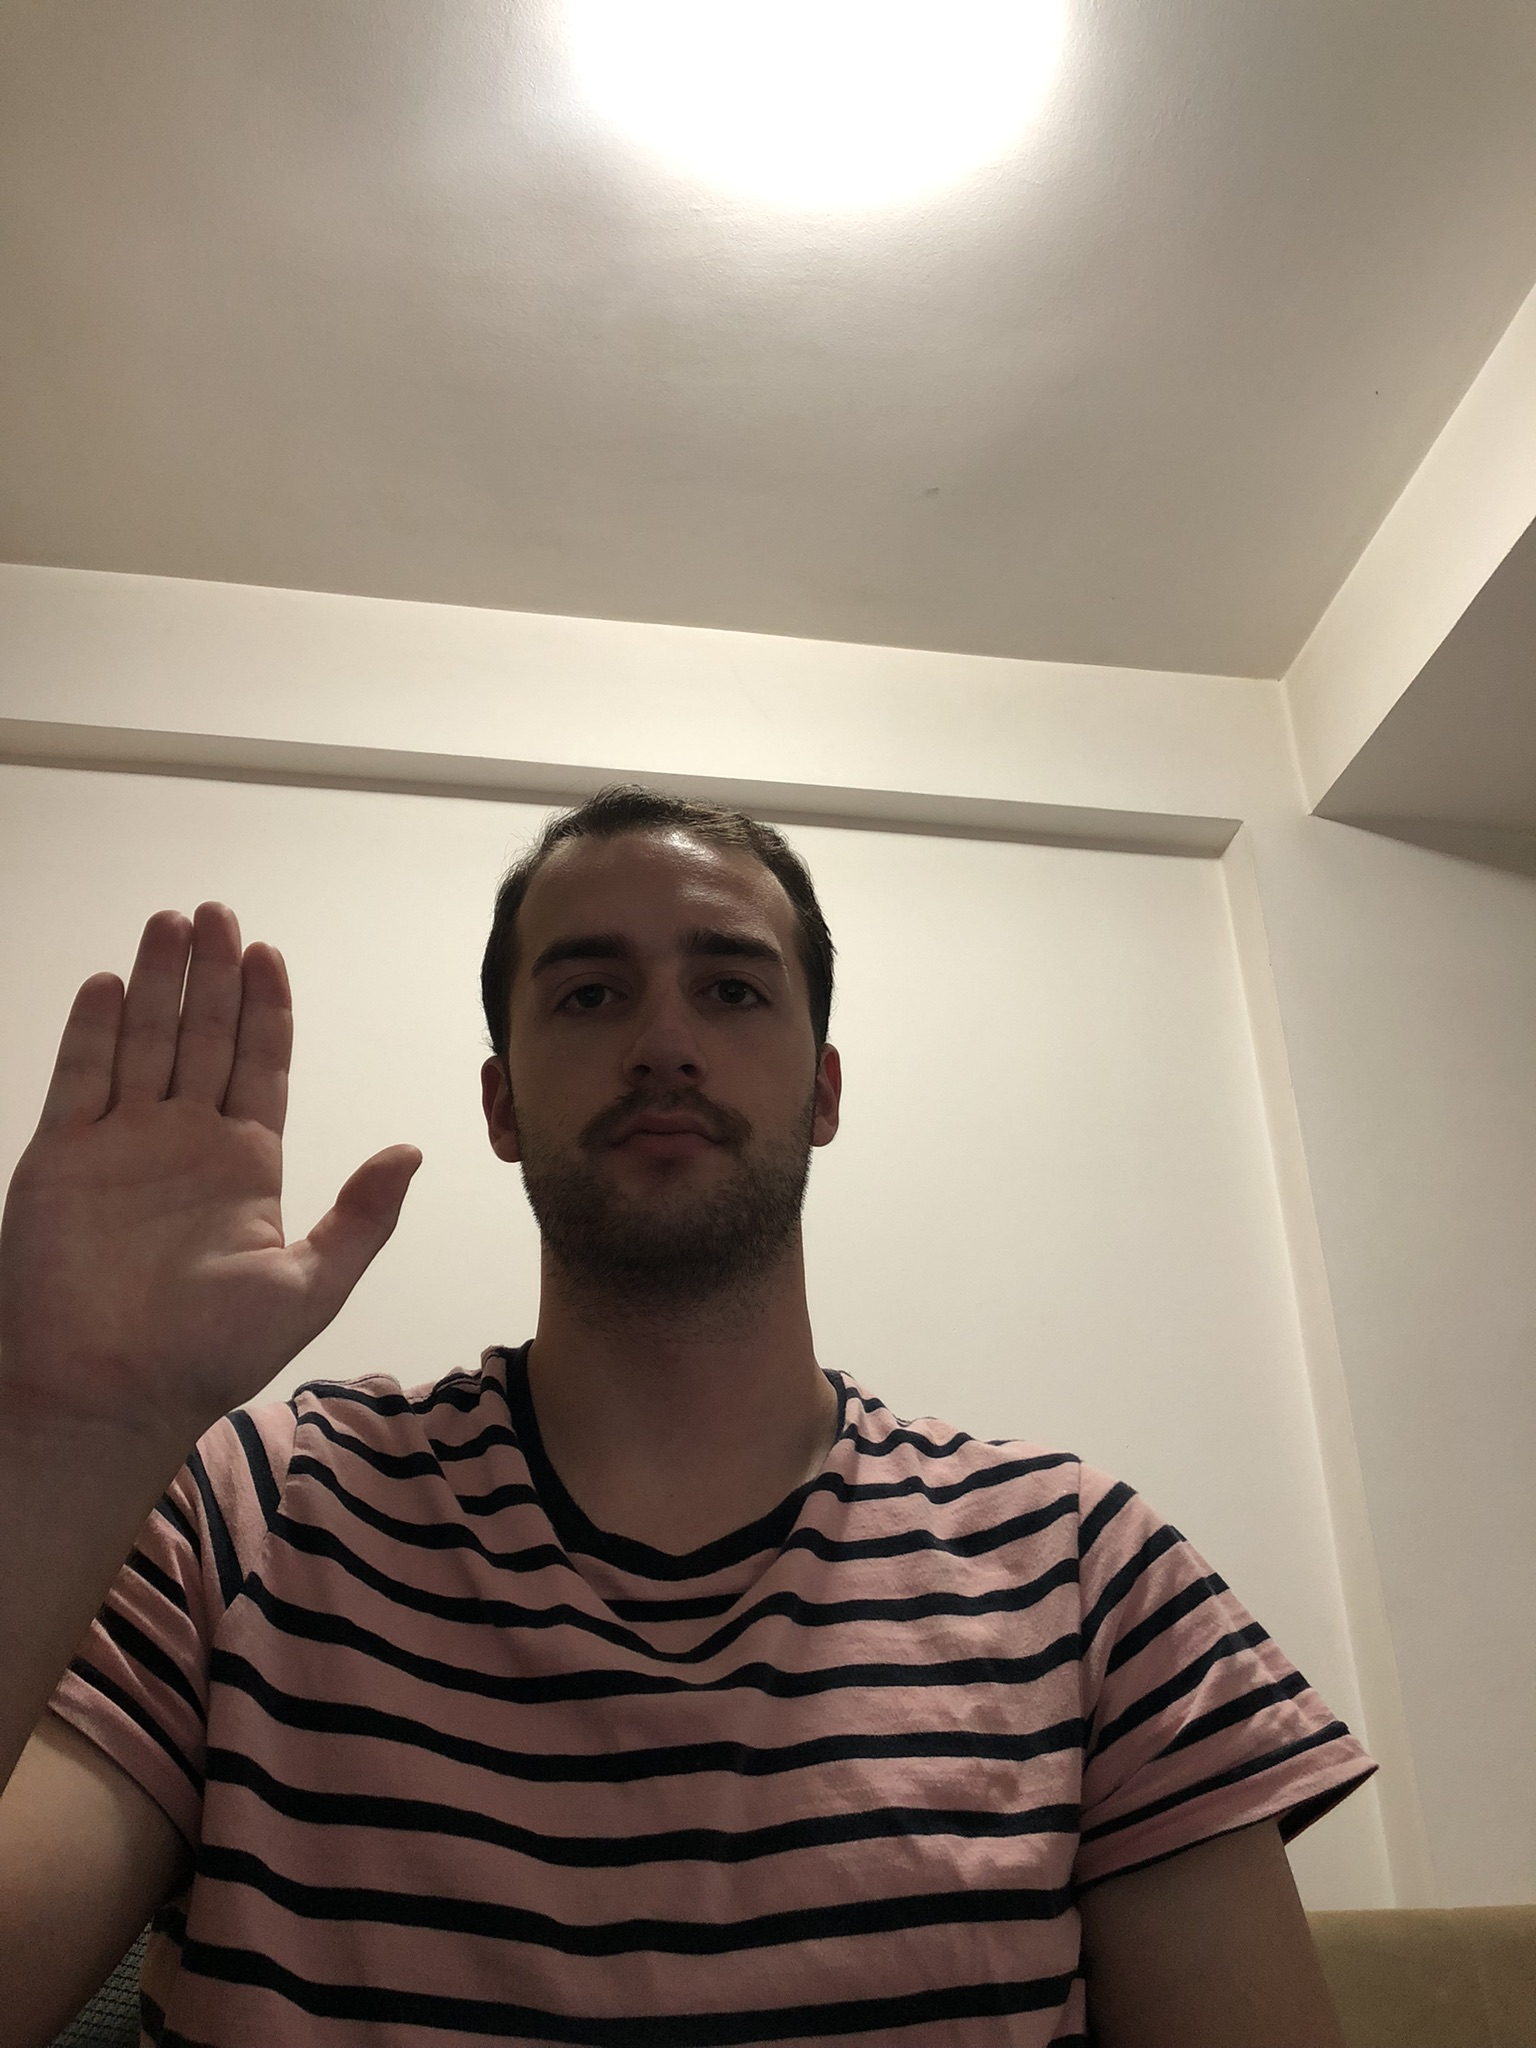Hello: (2, 887, 428, 1463)
